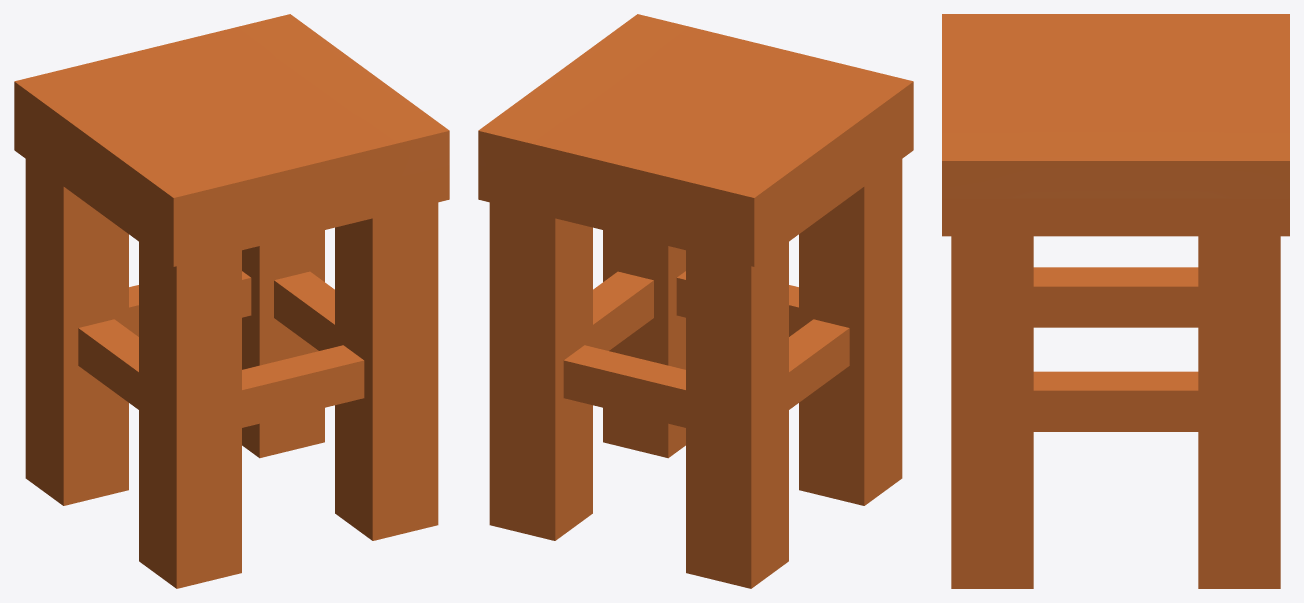
The model's file is Wood Chair for Wall Table lv1.fbx.
The picture shows the model from 3 angles, left to right: view 1: azimuth 30°, elevation 25°; view 2: azimuth 150°, elevation 25°; view 3: azimuth 270°, elevation 25°; orthographic projection. The views are drawn at different scales.
Parts seen in each view (by area): view 1: Wood_chair_lv1; view 2: Wood_chair_lv1; view 3: Wood_chair_lv1.
Boxes of the visible parts, x1,y1,x2,y2 form: Wood_chair_lv1: (14, 14, 449, 588); Wood_chair_lv1: (478, 14, 913, 588); Wood_chair_lv1: (942, 14, 1289, 588).
Bounding box in the file's own units: 82.33 × 113 × 82.33.
